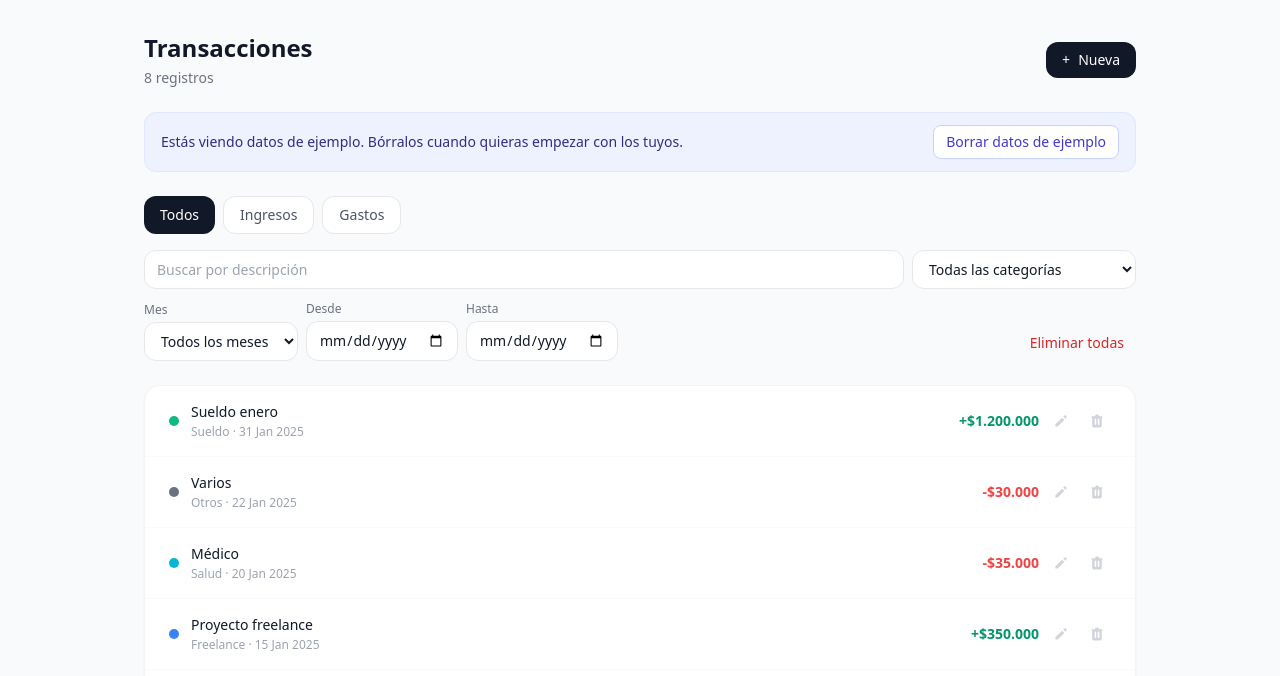
Scenario: TransactionsComponent › empty state and sample data › should clear the sample data from the banner
Click the button "Borrar datos de ejemplo".
click(1026, 142)  # box [933,125,1119,159]
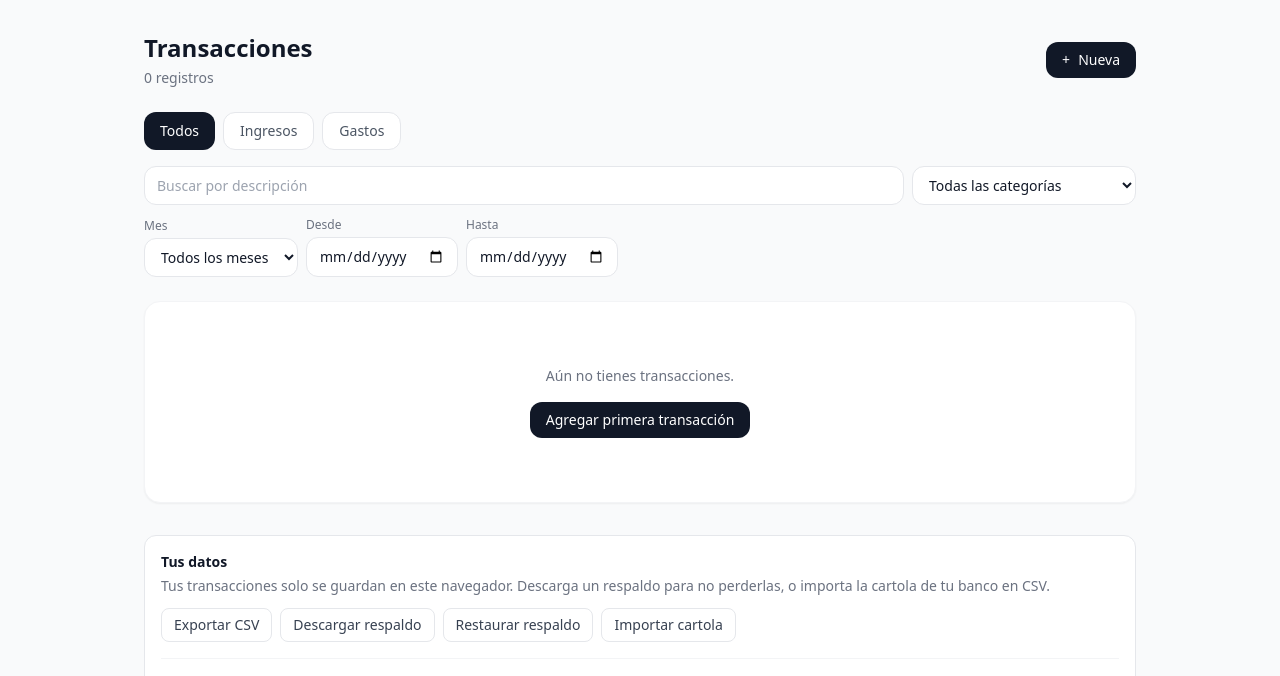
Expected: the text "Estás viendo datos de ejemplo" is gone
Expected: the text "Agregar primera transacción" is shown, [530,402,750,438]
